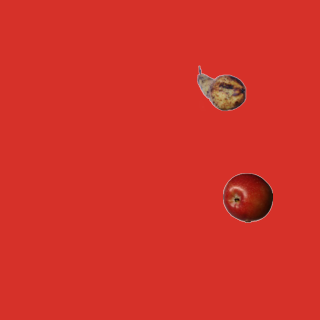Apple Braeburn: (222, 172, 272, 222)
Pear Abate: (196, 63, 246, 113)
